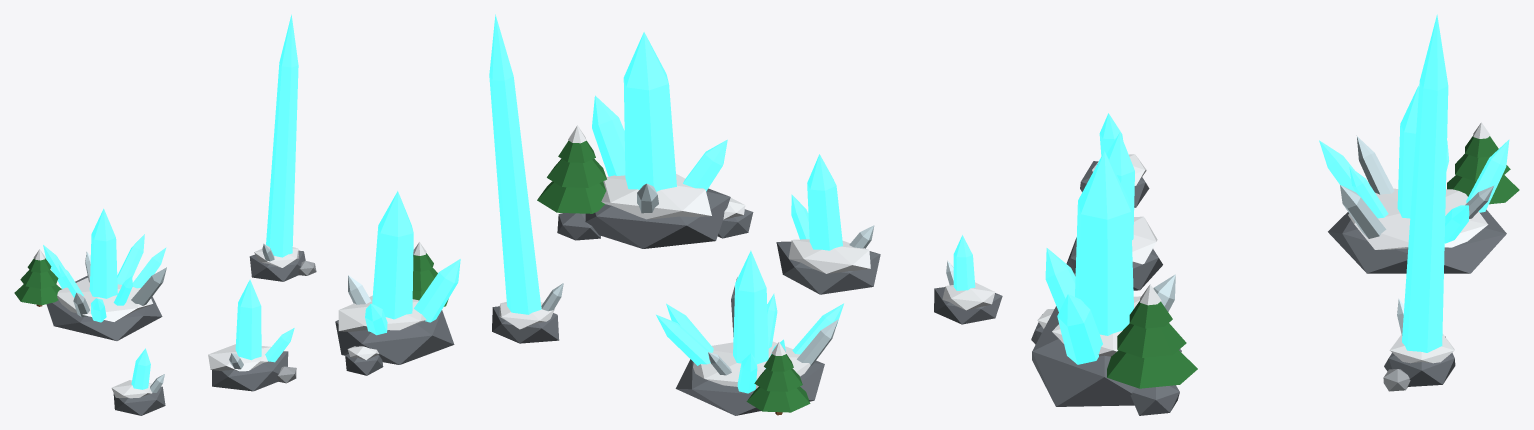
File: ice-crystal-set.glb
3 renders of one model, left to right at view 1: azimuth 30°, elevation 25°; view 2: azimuth 150°, elevation 25°; view 3: azimuth 270°, elevation 25°, orthographic. The views are drawn at different scales.
Visible parts, largest first — view 1: Crystal_Large, Crystal_Cluster, Crystal_Shard, Crystal_Medium, Crystal_Small; view 2: Crystal_Large, Crystal_Cluster, Crystal_Shard, Crystal_Medium, Crystal_Small; view 3: Crystal_Large, Crystal_Cluster, Crystal_Shard, Crystal_Medium, Crystal_Small.
Boxes of the visible parts, x1,y1,x2,y2 form: Crystal_Large: (335, 191, 460, 375); Crystal_Cluster: (14, 208, 166, 340); Crystal_Shard: (249, 14, 316, 281); Crystal_Medium: (208, 279, 296, 391); Crystal_Small: (111, 348, 165, 415); Crystal_Large: (537, 32, 753, 248); Crystal_Cluster: (656, 250, 843, 415); Crystal_Shard: (489, 14, 563, 343); Crystal_Medium: (776, 154, 880, 294); Crystal_Small: (934, 235, 1002, 324); Crystal_Large: (1031, 151, 1197, 415); Crystal_Cluster: (1319, 85, 1519, 273); Crystal_Shard: (1383, 14, 1455, 391); Crystal_Medium: (1066, 132, 1162, 290); Crystal_Small: (1080, 113, 1149, 207).
Size of the model in its own units: 31.08 by 21.62 by 25.66.
